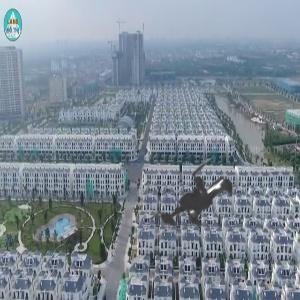drone: (125, 128, 281, 284)
